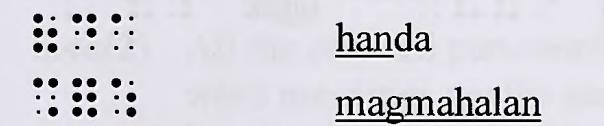a: (110, 10, 138, 55)
an: (110, 75, 137, 119)
d: (71, 11, 98, 54)
han: (31, 10, 59, 55)
mag: (31, 73, 61, 120)
mahal: (71, 74, 98, 119)
